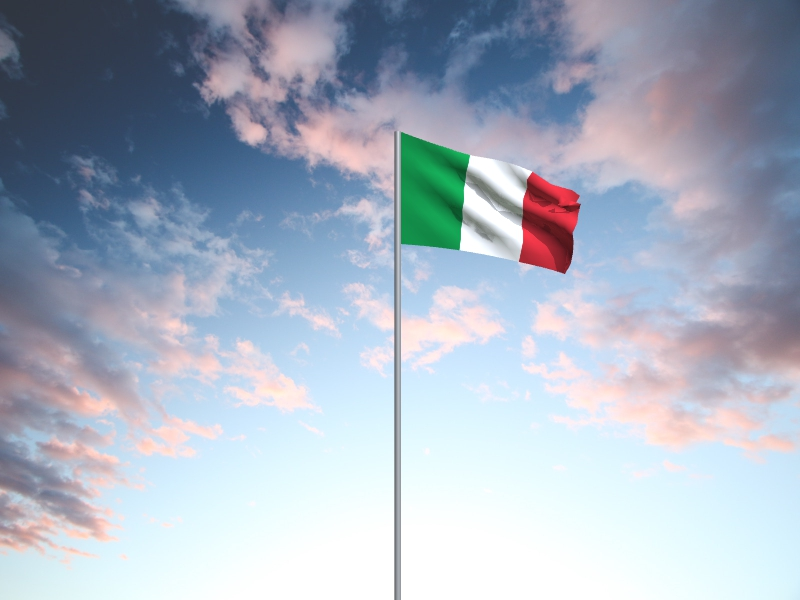it: (402, 132, 582, 275)
